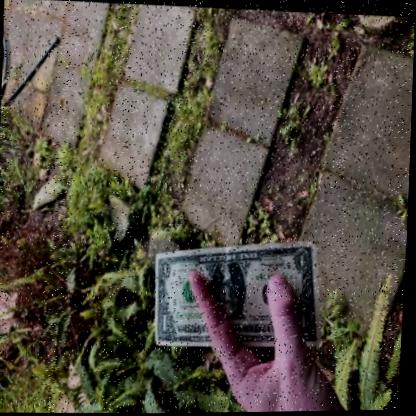one-front: (155, 236, 323, 344)
